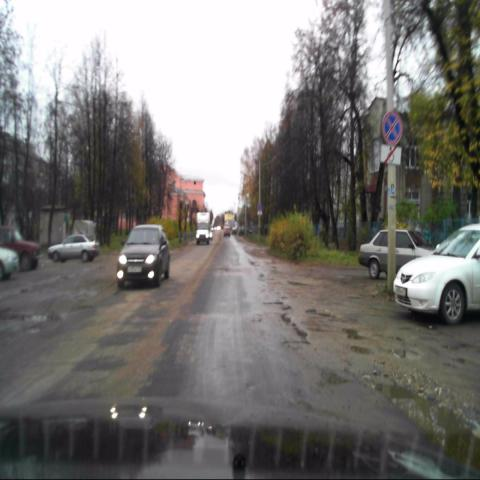8_18: (380, 145, 402, 164)
